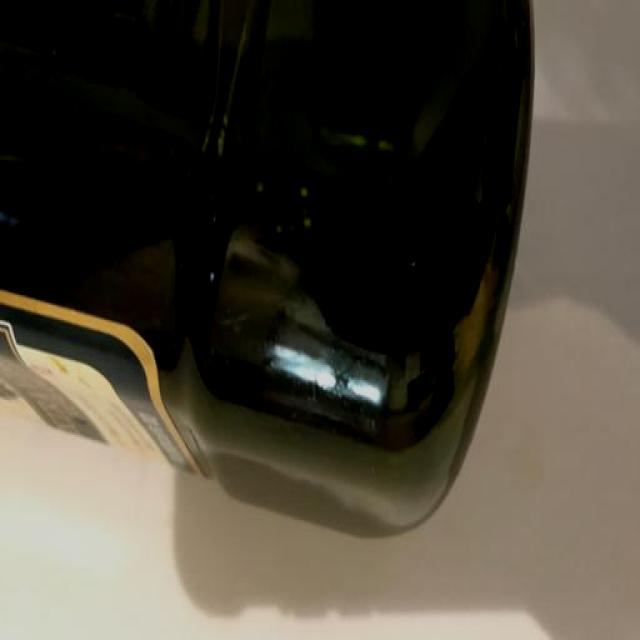Recycle: (0, 0, 539, 534)
